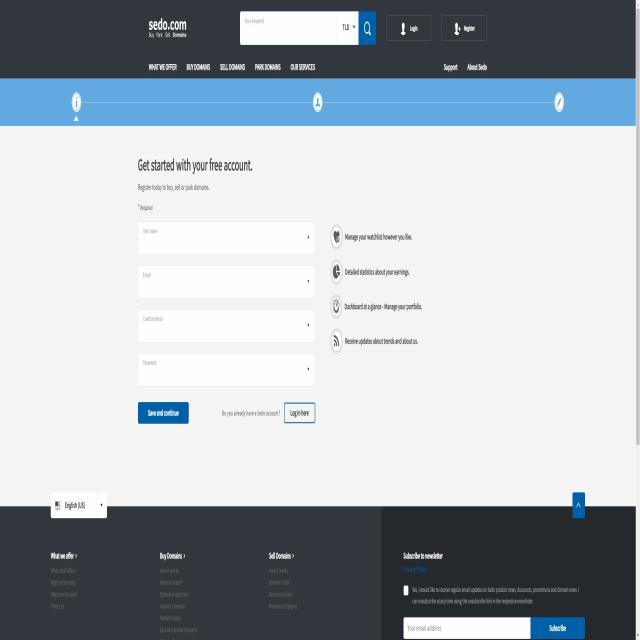search: (237, 10, 377, 50)
tab-bar: (146, 60, 316, 74)
